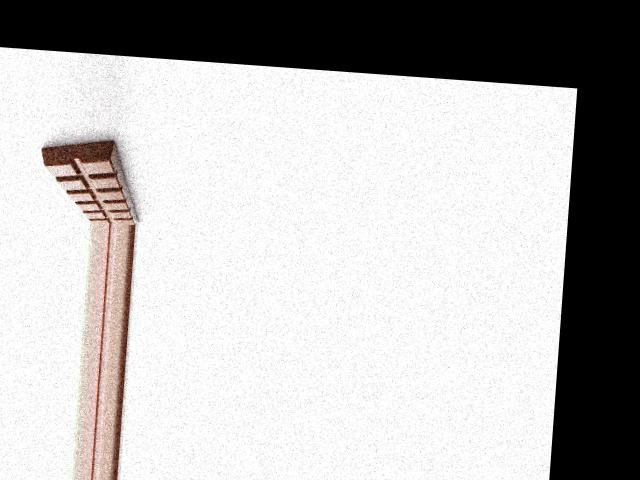chocolate: (36, 132, 151, 225)
